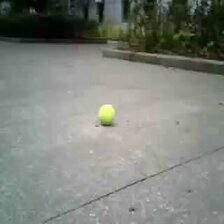tennis: (97, 104, 115, 125)
